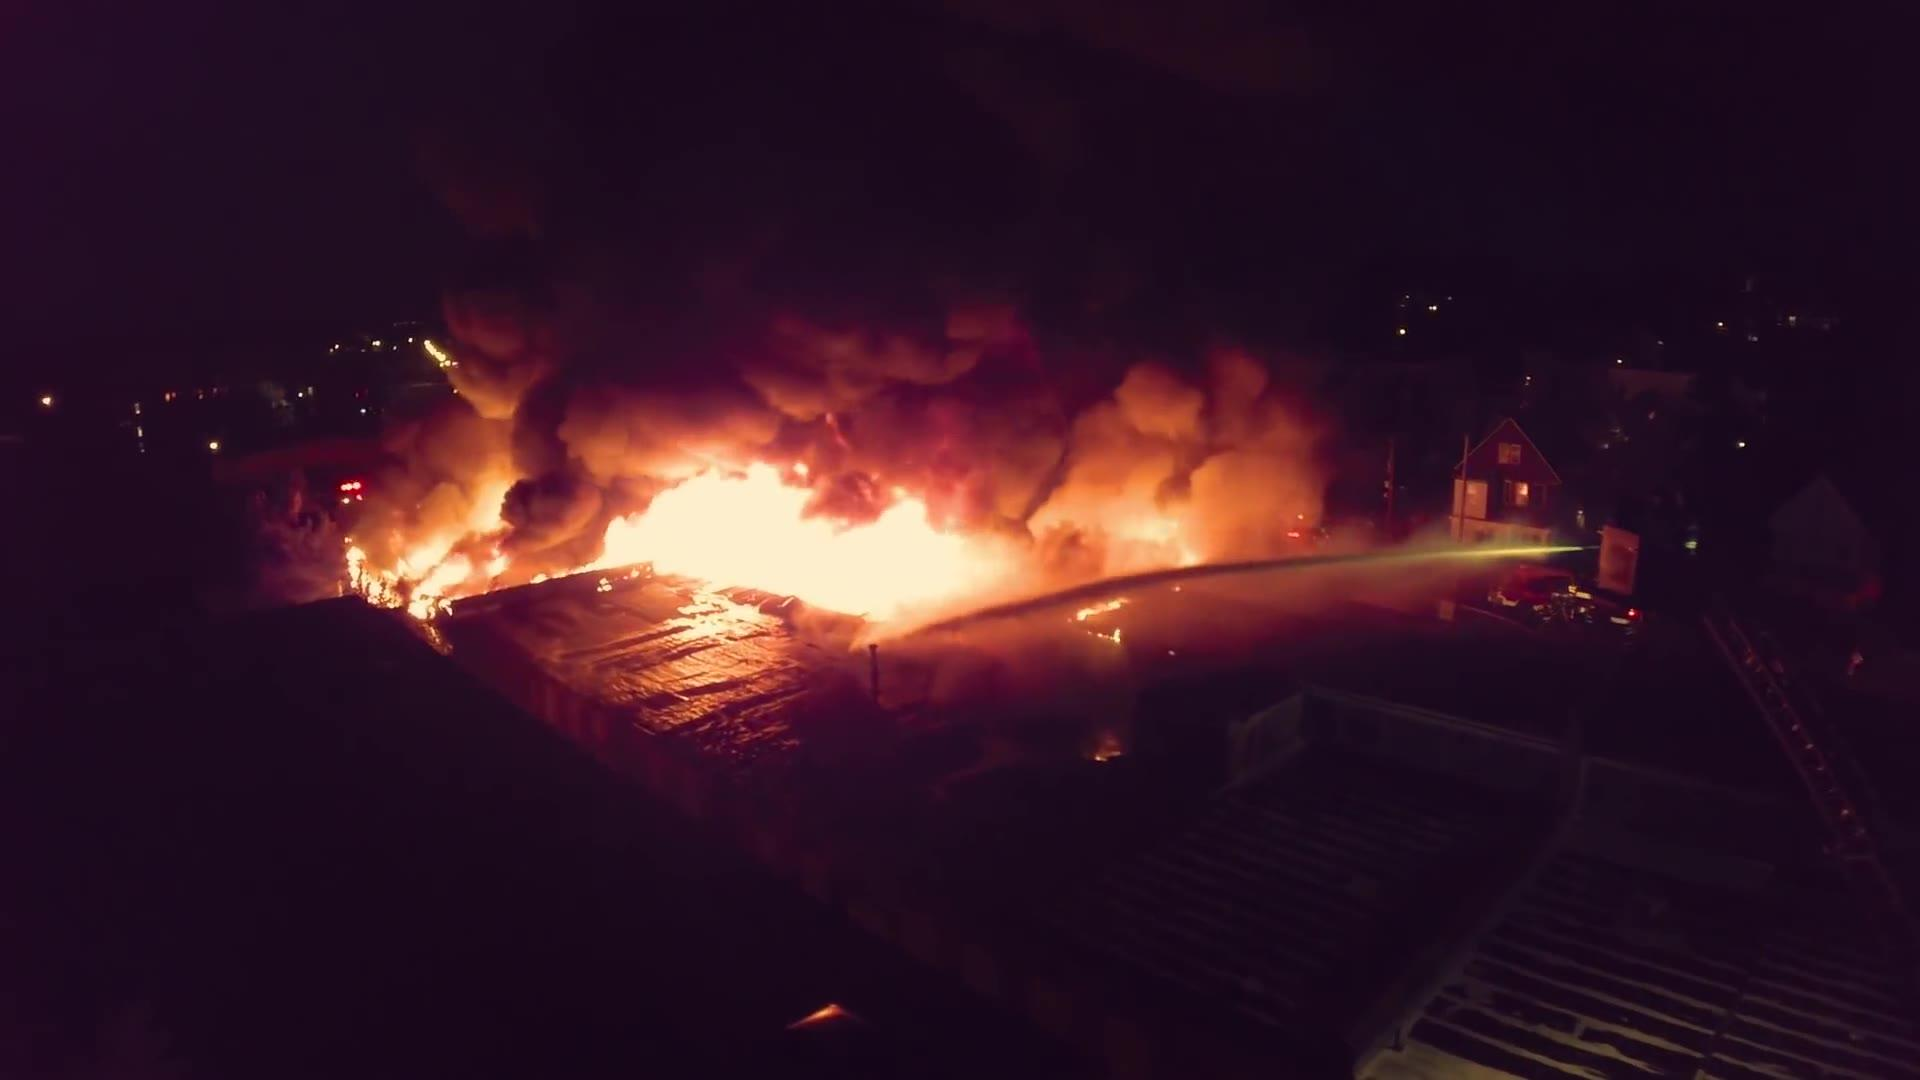fire: (280, 264, 1333, 703)
